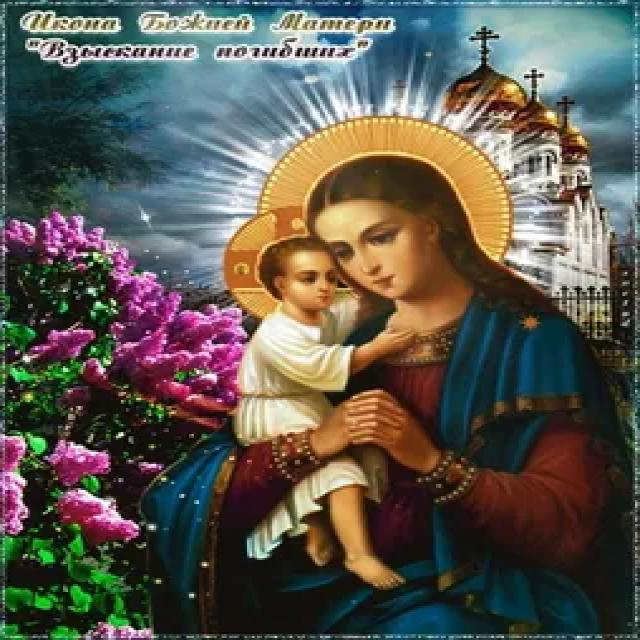mother of god: (126, 147, 640, 640)
